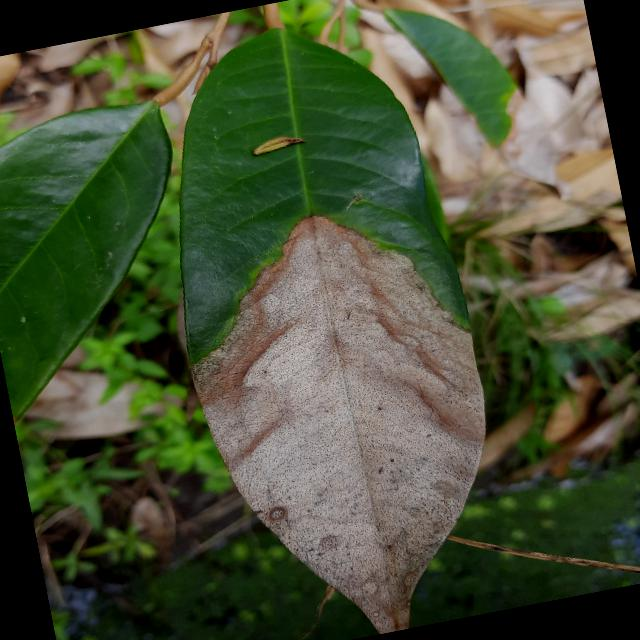Leaf Blight: (119, 0, 535, 639)
